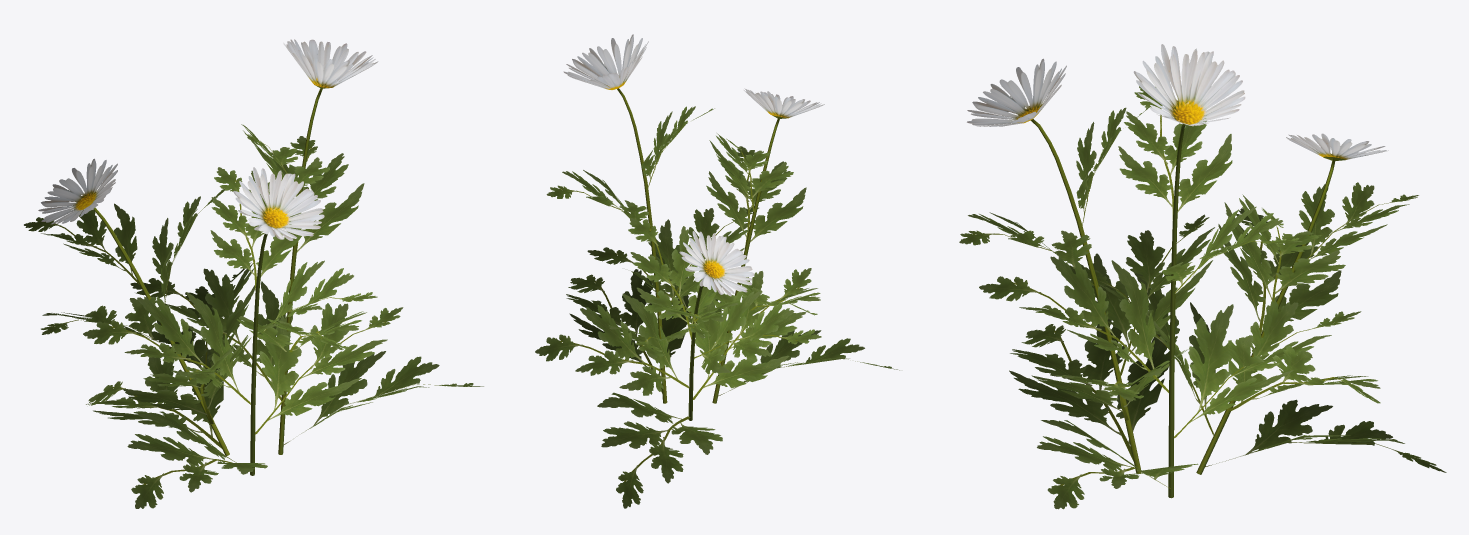
Rendered from margarita.glb.
3 views of the same model, side by side, from view 1: azimuth 30°, elevation 25°; view 2: azimuth 150°, elevation 25°; view 3: azimuth 270°, elevation 25° (orthographic). The views are drawn at different scales.
Parts seen in each view (by area): view 1: Tree_1, Tree_0, Tree_2; view 2: Tree_1, Tree_0, Tree_2; view 3: Tree_1, Tree_0, Tree_2.
Part boxes in pixels (<box>): Tree_1: <box>24,124,483,508</box>; Tree_0: <box>38,39,378,240</box>; Tree_2: <box>93,85,327,475</box>; Tree_1: <box>535,106,899,508</box>; Tree_0: <box>563,34,824,296</box>; Tree_2: <box>617,88,786,420</box>; Tree_1: <box>959,86,1446,509</box>; Tree_0: <box>967,44,1388,159</box>; Tree_2: <box>1030,119,1345,498</box>.
Size of the model in its own units: 0.8865 by 0.9801 by 0.8895.
3 materials, 3 textured.
